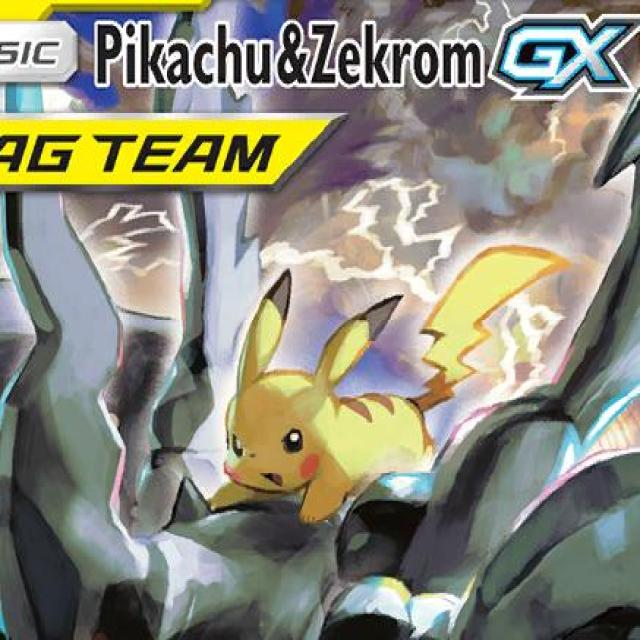pikachu: (205, 245, 568, 528)
